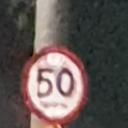speed_limit_50: (17, 46, 89, 124)
